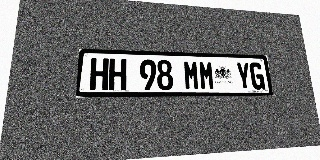8: (157, 60, 173, 90)
9: (140, 59, 157, 90)
G: (249, 62, 265, 90)
H: (89, 58, 109, 90), (109, 58, 127, 90)
M: (183, 60, 200, 90), (198, 61, 215, 90)
Y: (235, 62, 252, 90)
